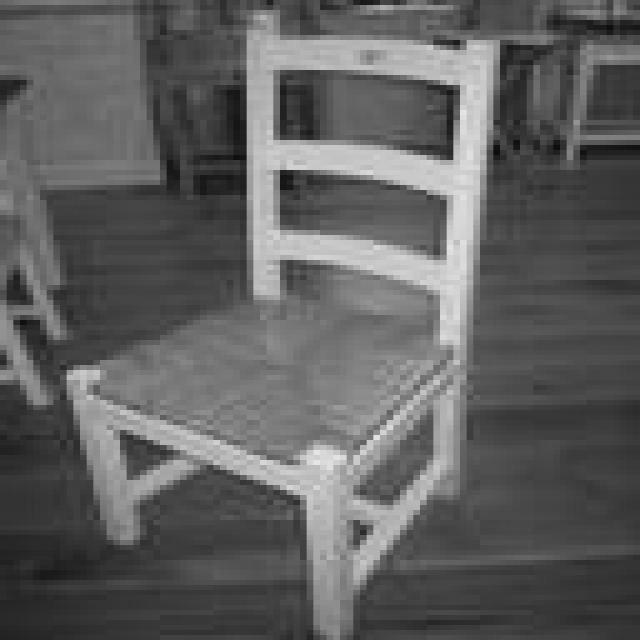chair: (61, 10, 507, 635)
